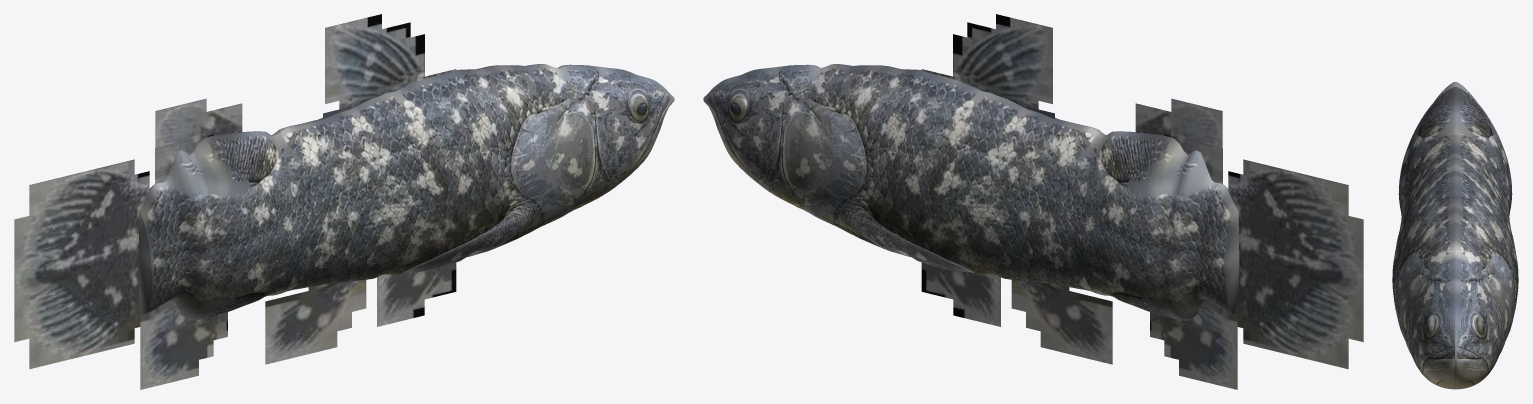
The model's file is real-latimeria_chalumnae.glb.
The picture shows the model from 3 angles, left to right: view 1: azimuth 30°, elevation 25°; view 2: azimuth 150°, elevation 25°; view 3: azimuth 270°, elevation 25°; orthographic projection. The views are drawn at different scales.
Parts seen in each view (by area): view 1: latimeria_chalumnae; view 2: latimeria_chalumnae; view 3: latimeria_chalumnae.
Boxes of the visible parts, <box> form: latimeria_chalumnae: <box>14,14,674,389</box>; latimeria_chalumnae: <box>703,14,1363,389</box>; latimeria_chalumnae: <box>1392,82,1518,389</box>.
Bounding box in the file's own units: 1.68 × 0.7855 × 0.3108.
1 material, 1 textured.
